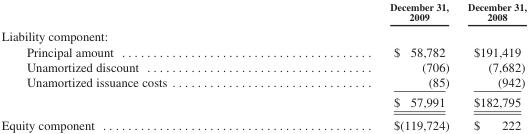table: (0, 0, 525, 131)
table column: (0, 0, 277, 131), (277, 0, 457, 131), (457, 0, 525, 131)
table column header: (0, 0, 525, 25)
table projected row header: (0, 25, 525, 43)
table row: (0, 0, 525, 25), (0, 91, 525, 113), (0, 25, 525, 43), (0, 73, 525, 91), (0, 113, 525, 131), (0, 43, 525, 58), (0, 58, 525, 73)
